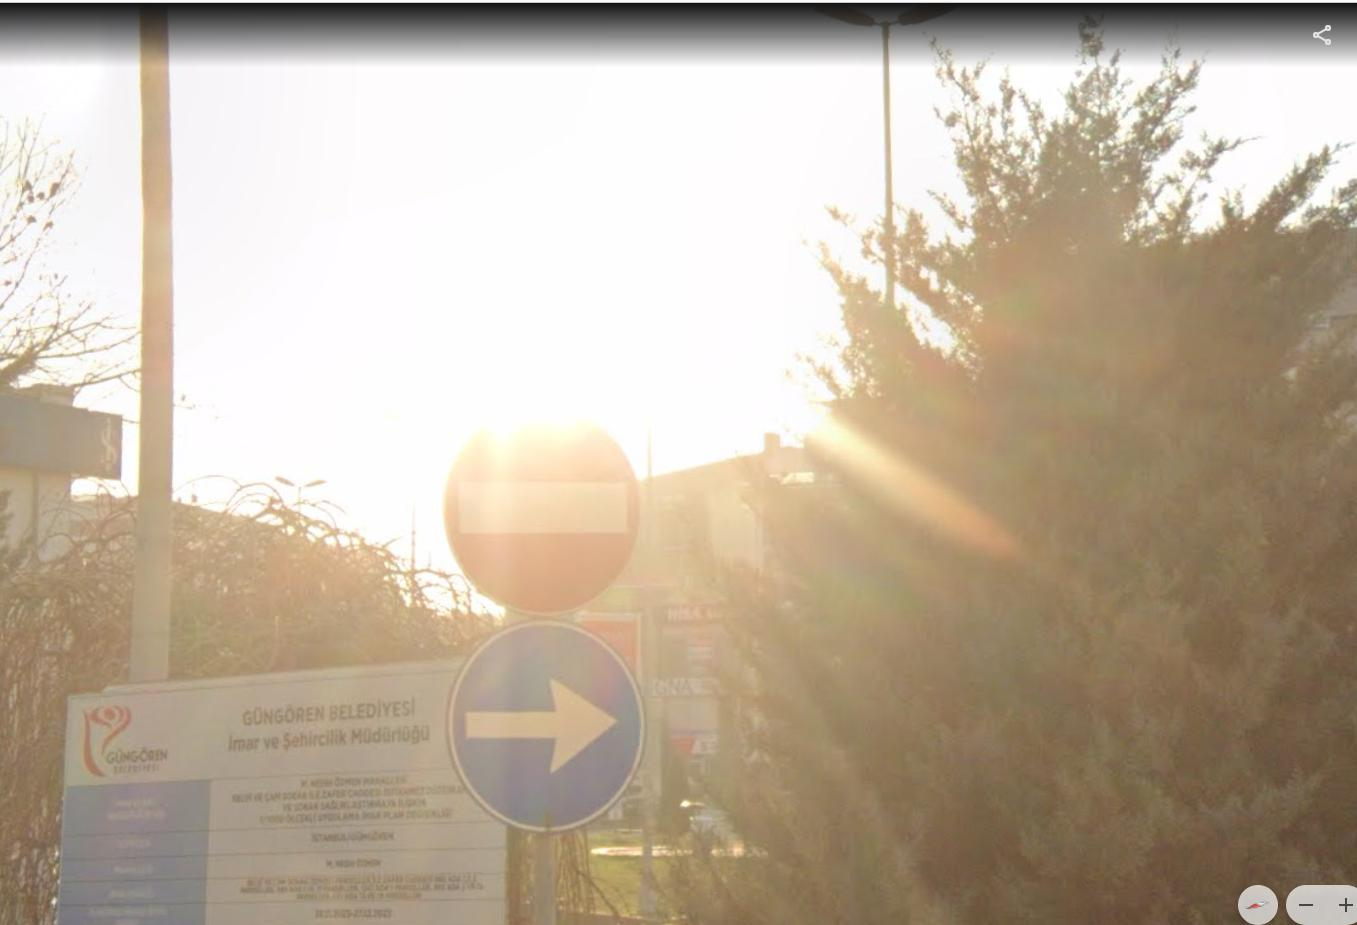turnright: (455, 620, 640, 822)
